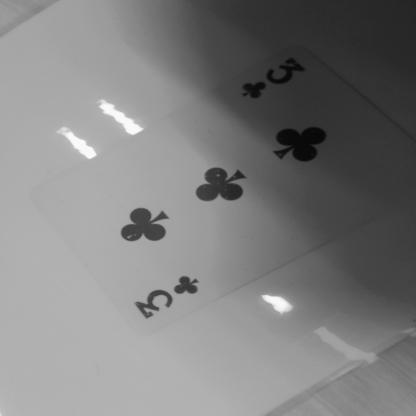3C: (128, 266, 216, 322), (232, 53, 318, 106)
